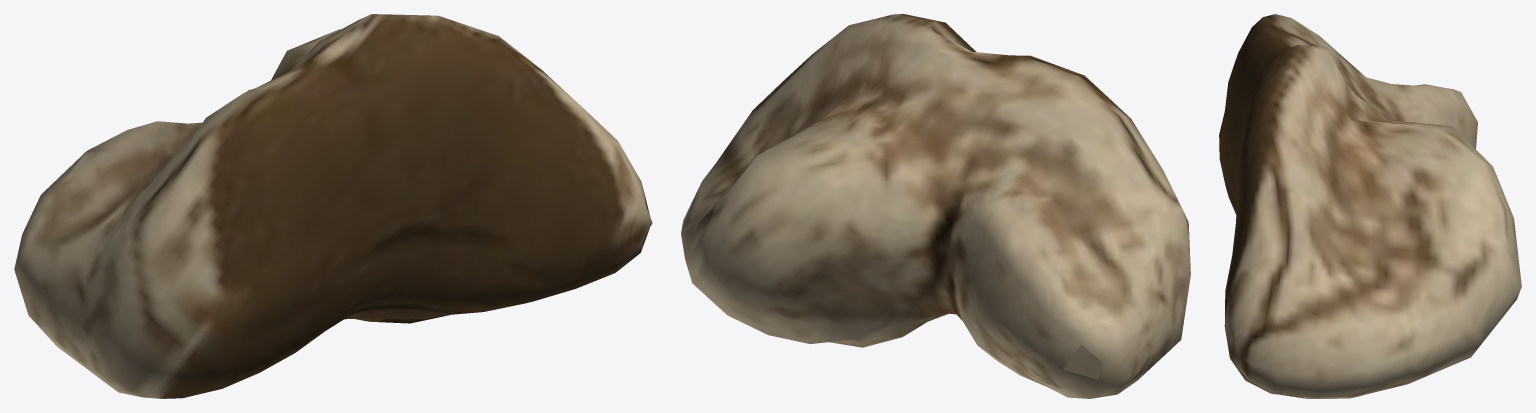
The model's file is Sesamoids.glb.
3 renders of one model, left to right at view 1: azimuth 30°, elevation 25°; view 2: azimuth 150°, elevation 25°; view 3: azimuth 270°, elevation 25°, orthographic. The views are drawn at different scales.
Visible parts, largest first — view 1: L_Frt_Sesamoids; view 2: L_Frt_Sesamoids; view 3: L_Frt_Sesamoids.
Boxes of the visible parts, <box> form: L_Frt_Sesamoids: <box>14,14,652,398</box>; L_Frt_Sesamoids: <box>681,14,1190,398</box>; L_Frt_Sesamoids: <box>1219,14,1521,398</box>.
Size of the model in its own units: 0.0553 by 0.0335 by 0.0305.
Materials: 1 (1 with a texture image).
